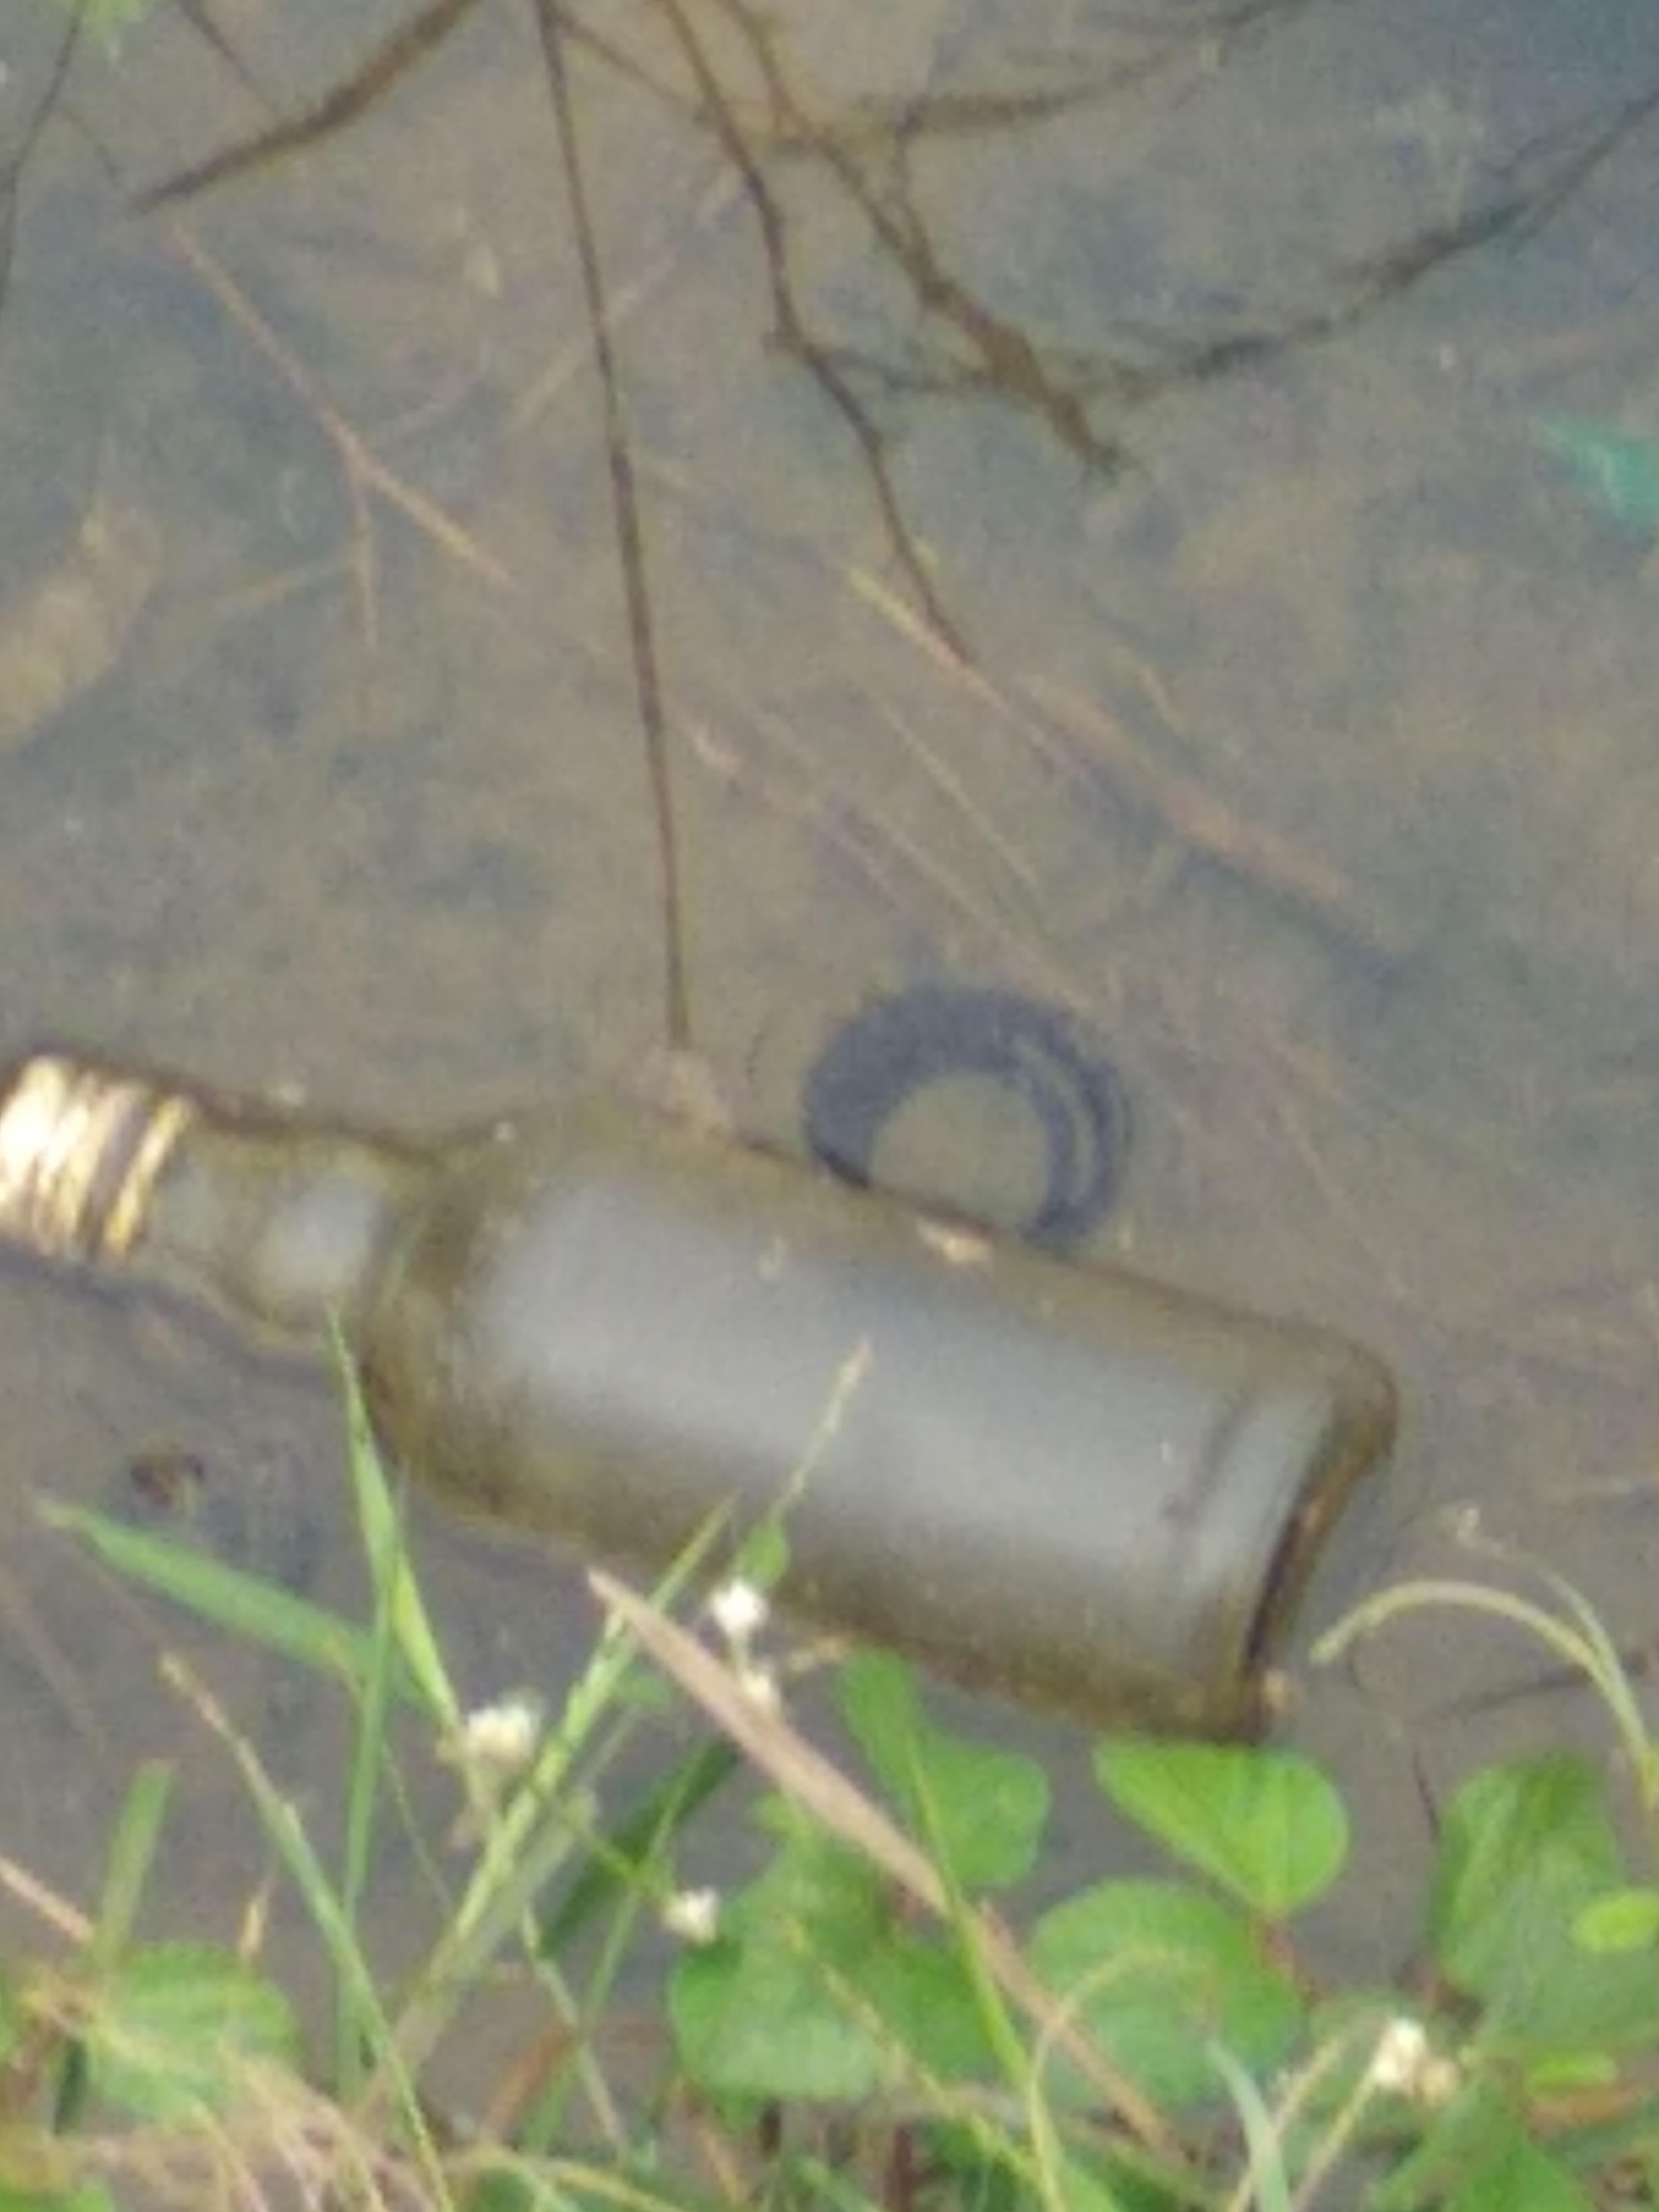organic: (0, 1035, 1405, 1777)
